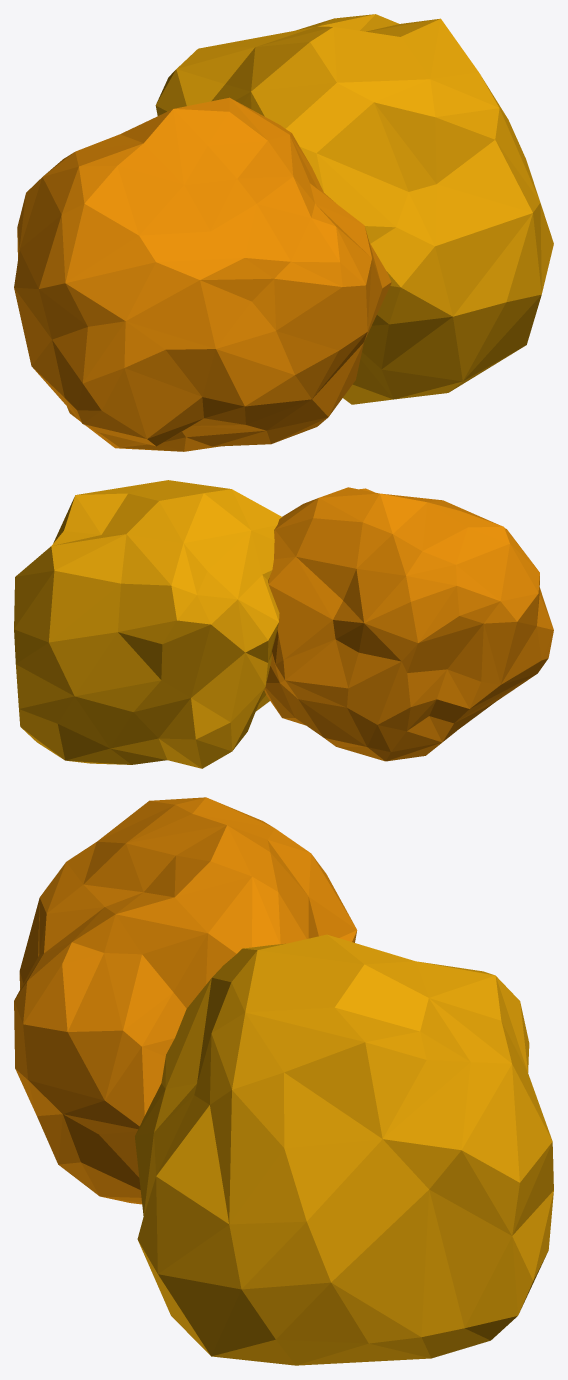
The model's file is Bush big 2.2.fbx.
3 views of the same model, one above another, from view 1: azimuth 30°, elevation 25°; view 2: azimuth 150°, elevation 25°; view 3: azimuth 270°, elevation 25° (orthographic). The views are drawn at different scales.
Visible parts, largest first — view 1: Cube.478; view 2: Cube.478; view 3: Cube.478.
Boxes of the visible parts, left/top/right/bottom form: Cube.478: left=14, top=14, right=553, bottom=451; Cube.478: left=14, top=480, right=553, bottom=768; Cube.478: left=14, top=797, right=553, bottom=1365.
Size of the model in its own units: 2571 by 1561 by 1938.
